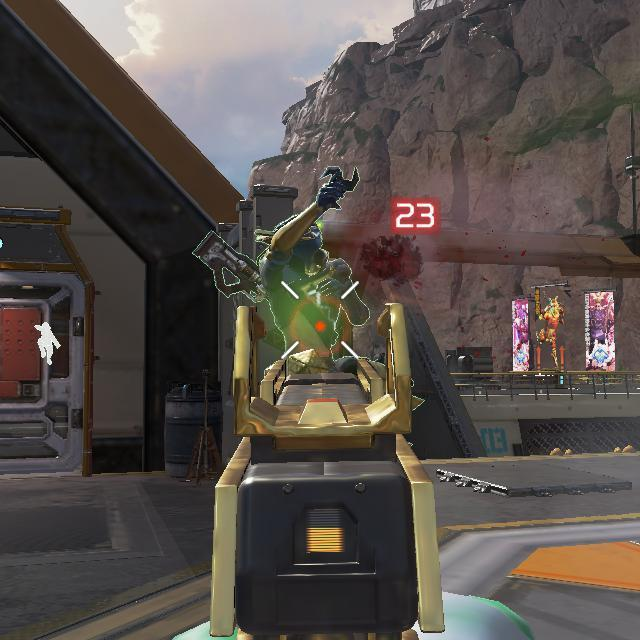avatar: (255, 211, 373, 350)
